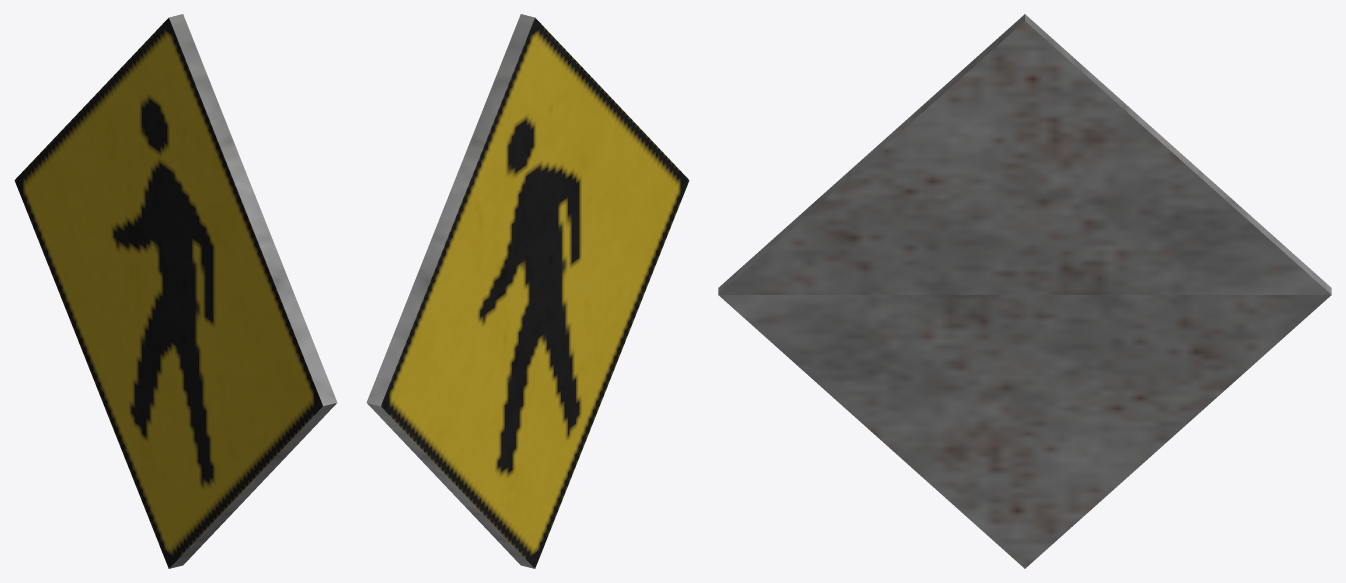
The model's file is Sign_Crossing_Plate.obj.
The picture shows the model from 3 angles, left to right: view 1: azimuth 30°, elevation 25°; view 2: azimuth 150°, elevation 25°; view 3: azimuth 270°, elevation 25°; orthographic projection.
Parts seen in each view (by area): view 1: Sign_Crossing_Plate; view 2: Sign_Crossing_Plate; view 3: Sign_Crossing_Plate.
Part boxes in pixels (left/top/right/bottom): Sign_Crossing_Plate: left=14, top=14, right=337, bottom=568; Sign_Crossing_Plate: left=366, top=14, right=689, bottom=568; Sign_Crossing_Plate: left=718, top=14, right=1331, bottom=568.
Size of the model in its own units: 0.0152 by 0.5584 by 0.5665.
